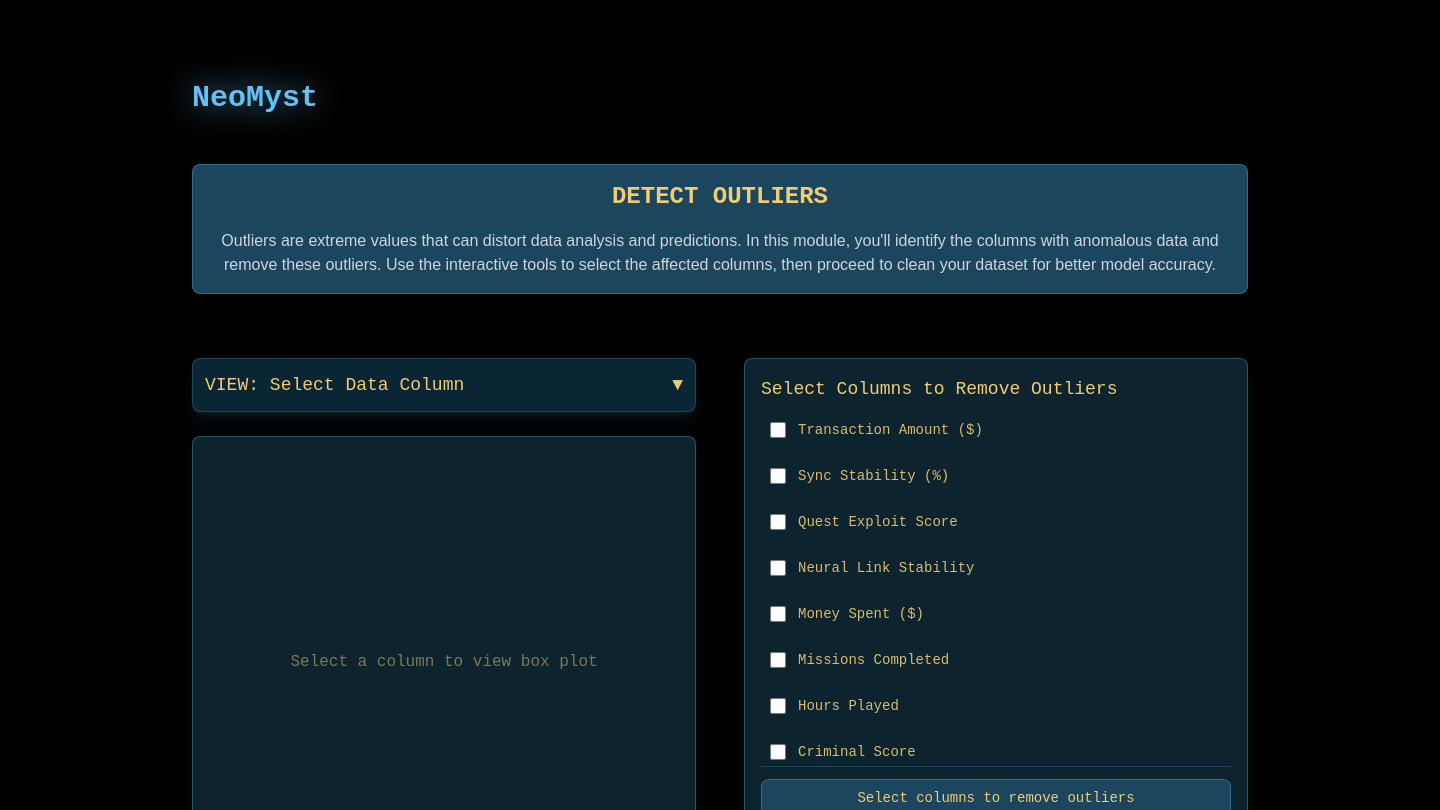
OutlierDetection Component › shows error message when removing outliers with incorrect selection
// Select columns incorrectly (including one without outliers)
Click the checkbox next to "Quest Exploit Score" at (778, 522), box [770, 514, 786, 530]
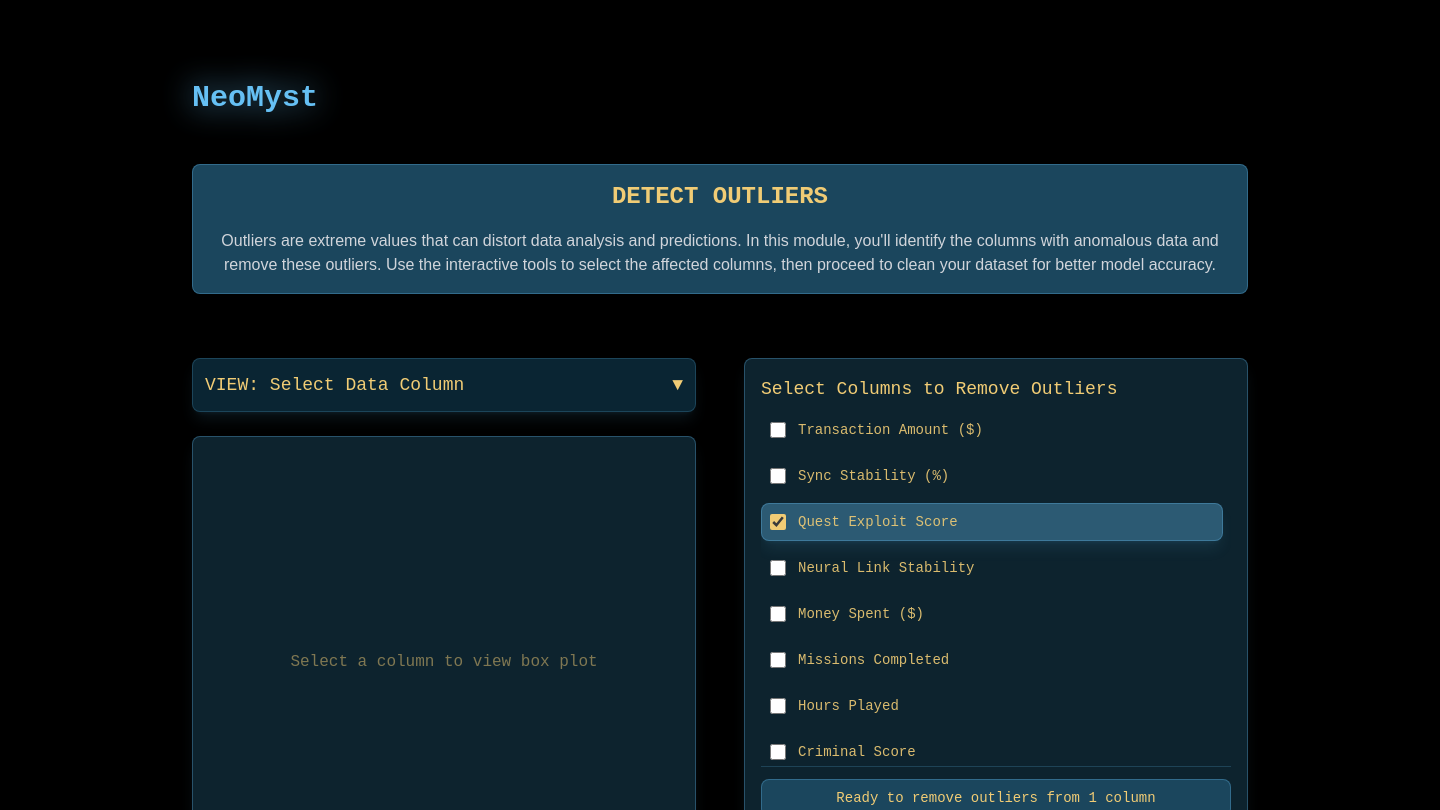
Click the checkbox next to "Hours Played" at (778, 706), box [770, 698, 786, 714]
(page scrolled)
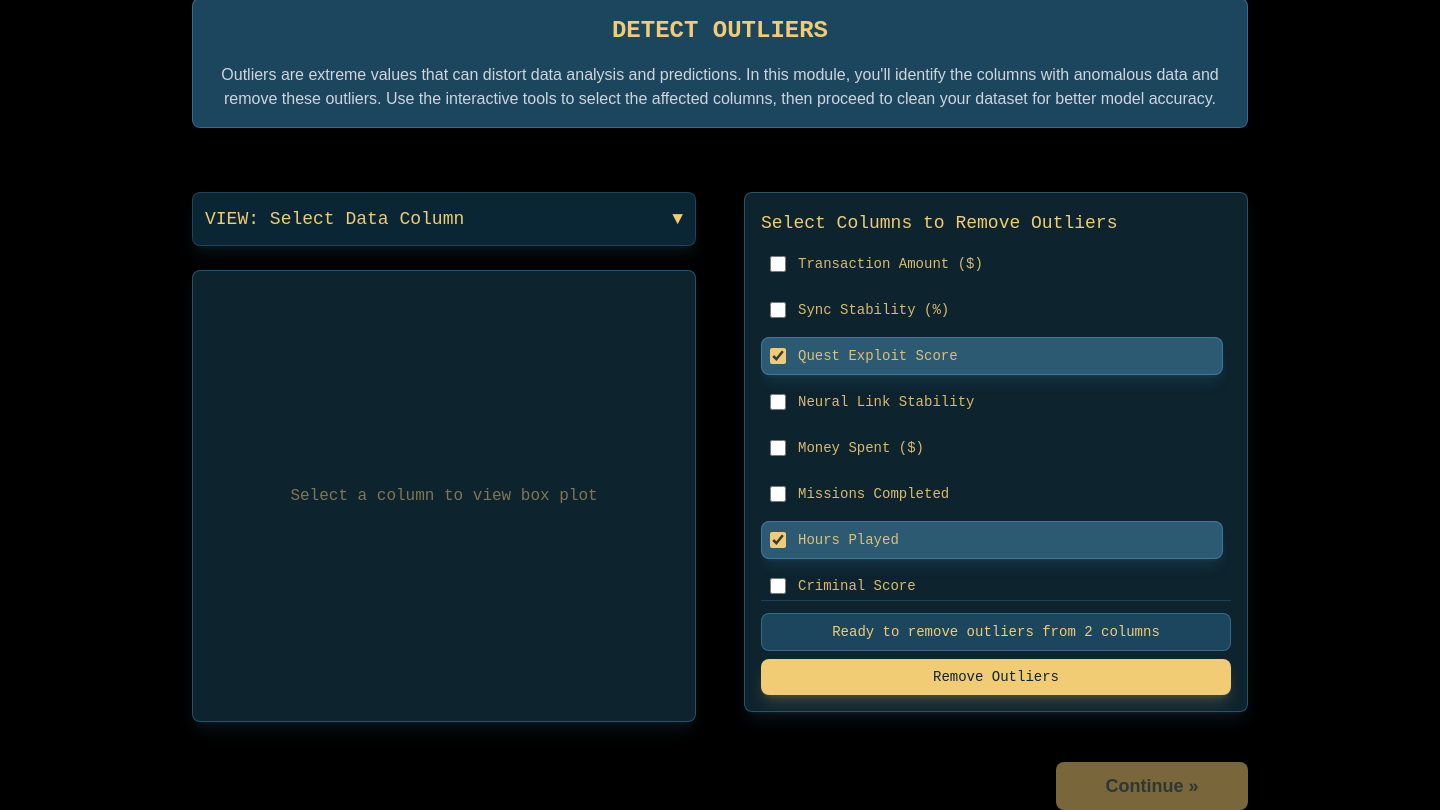
// Click Remove Outliers button
Click the button "Remove Outliers" at (996, 677), box [761, 659, 1231, 695]
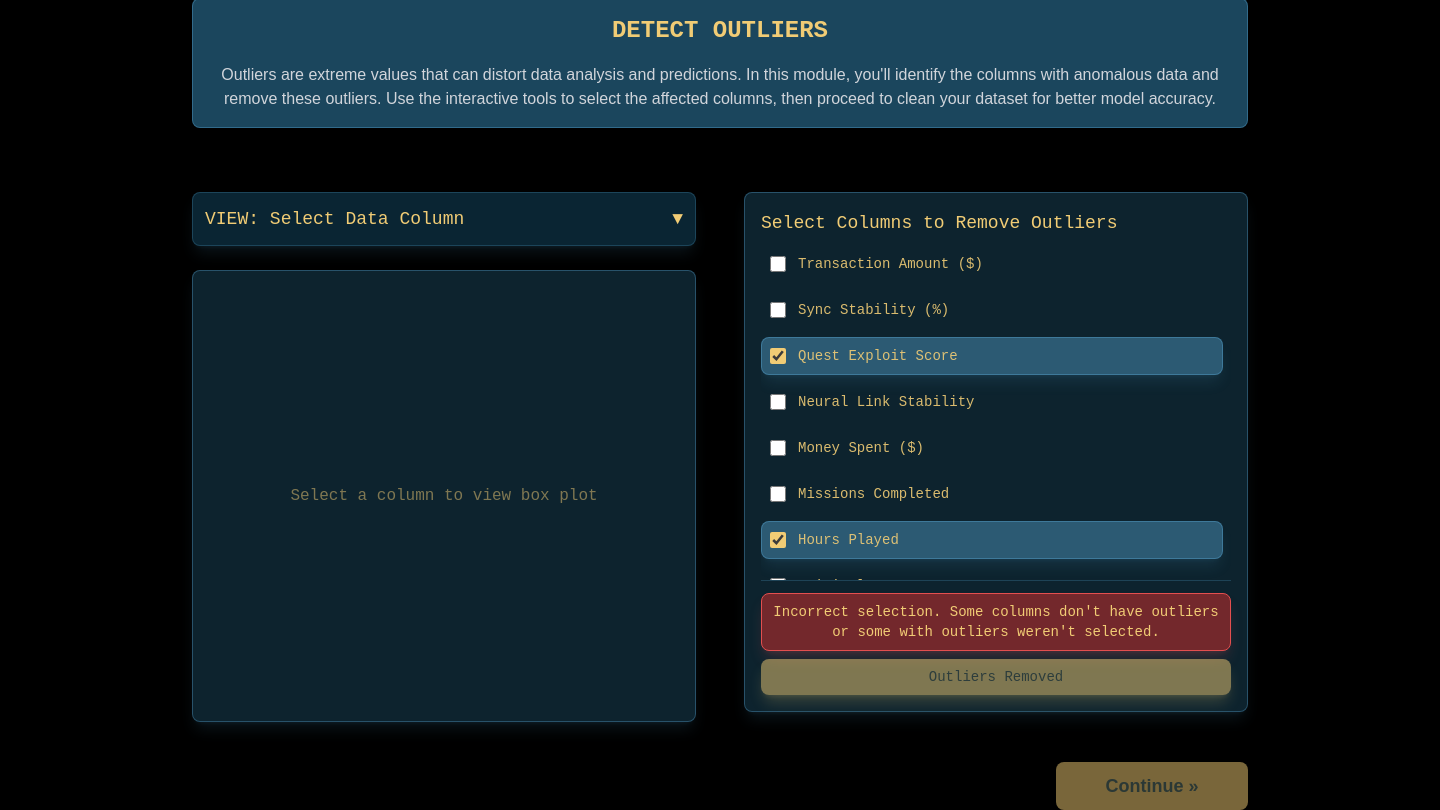
expect the text "Incorrect selection" is shown: met, box [773, 604, 1219, 640]
